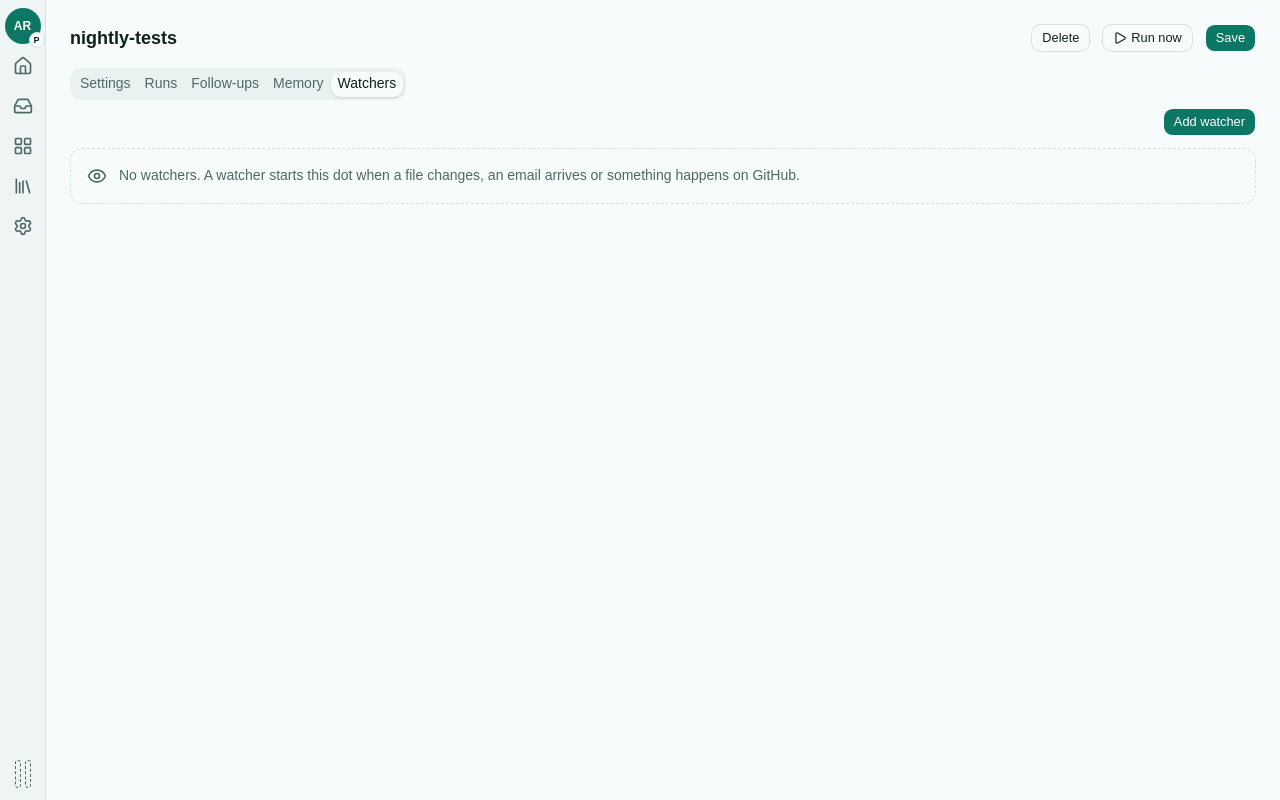
Scenario: a dot's Watchers tab › adds a folder watcher with the folder picker, named after the folder
expect the tab "Watchers" is shown: met, box [330,72,403,96]
Click the button "Add watcher" at (1209, 122), box [1163,108,1256,136]
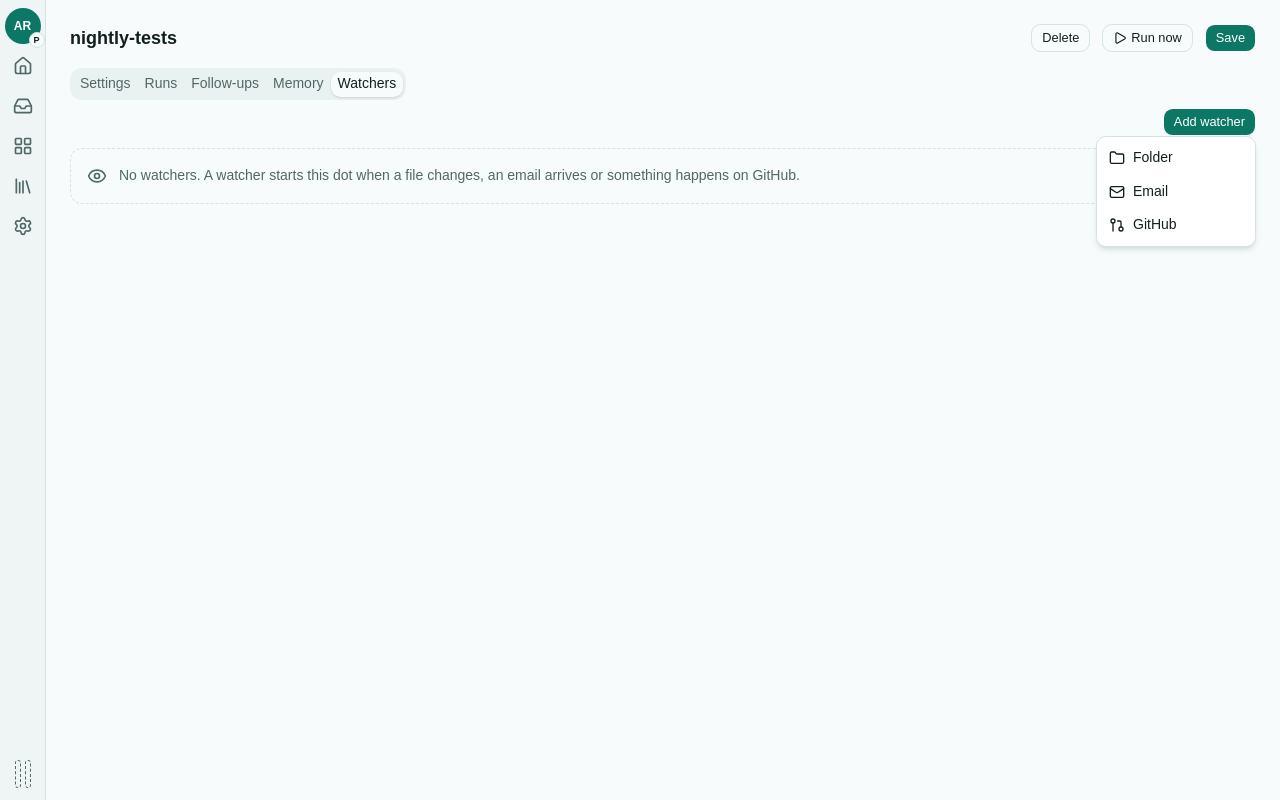
Click the menu item "Folder" at (1141, 157), box [1109,149,1173,166]
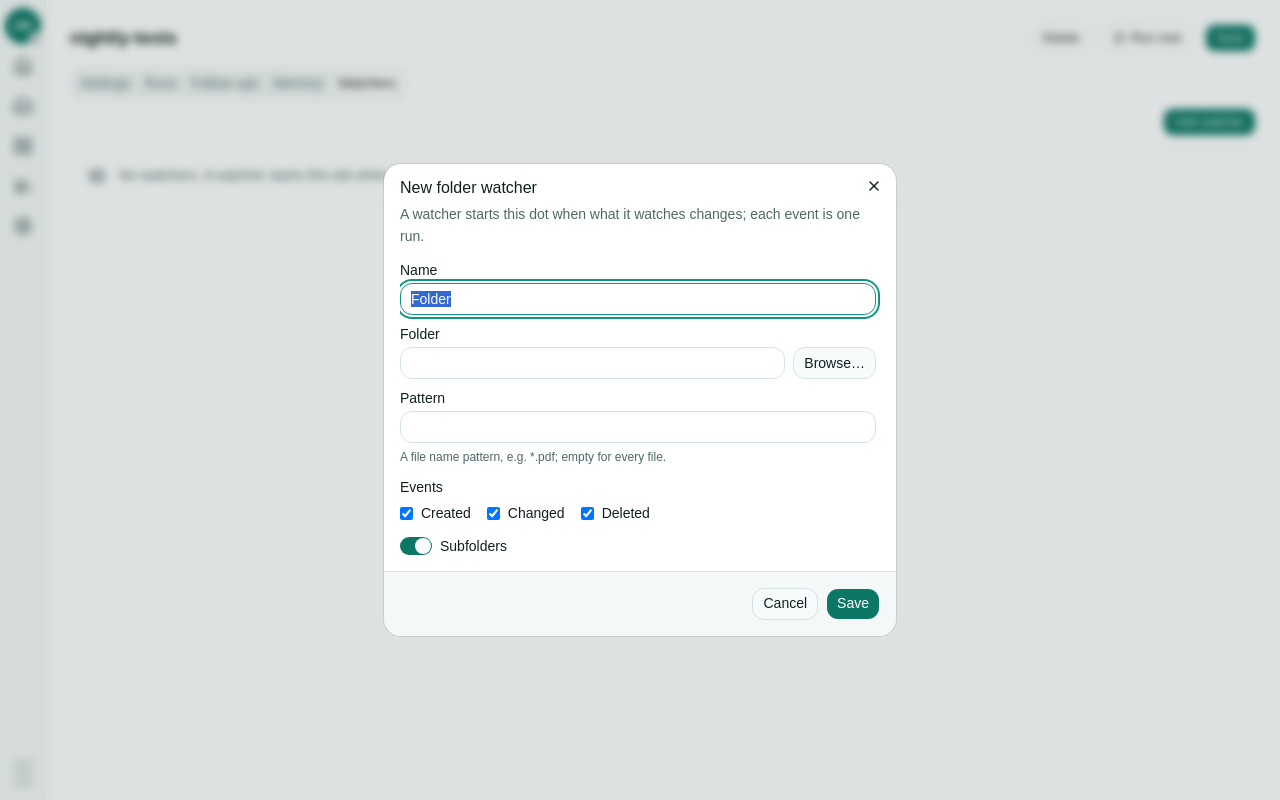
Click the button "Browse…" at (835, 363), box [793,347,876,379]
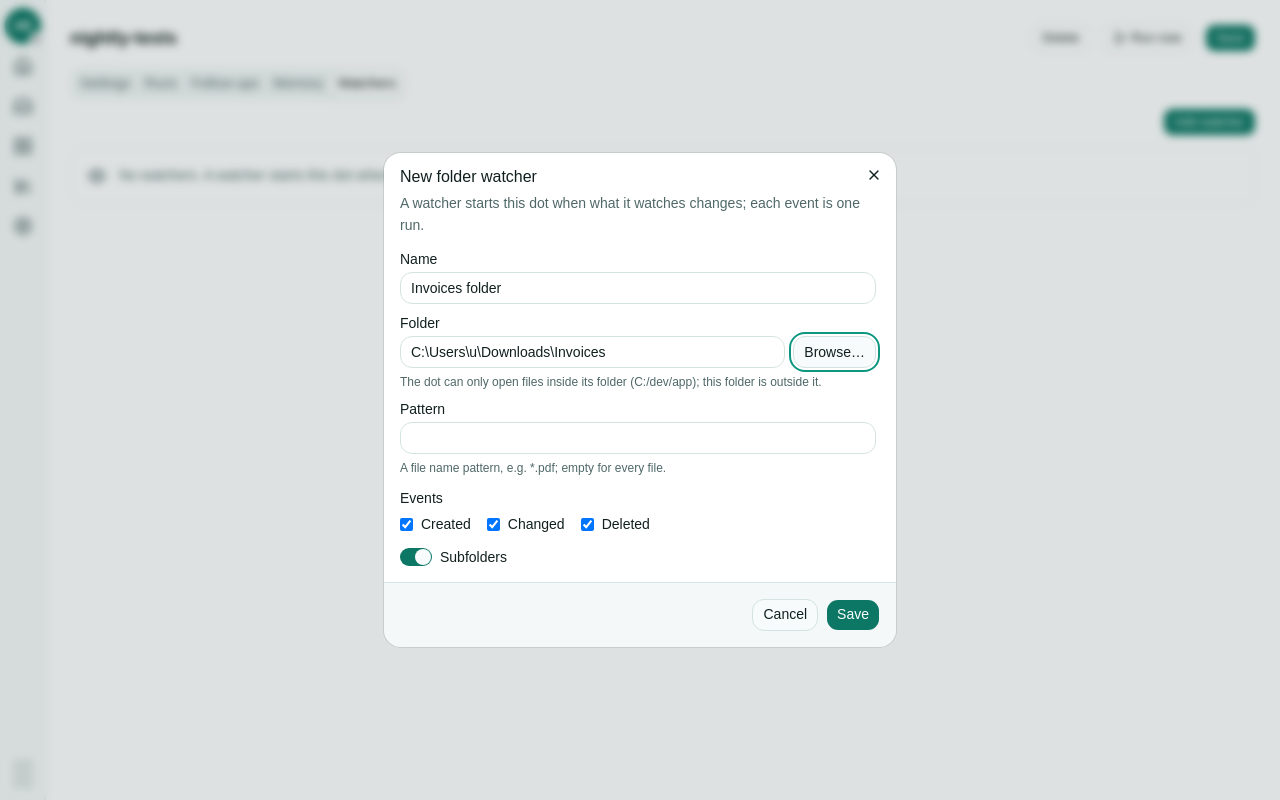
expect the checkbox labelled "Created" is checked: met, box [400,518,413,531]
expect the field labelled "Folder" holds "C:\\Users\\u\\Downloads\\Invoices": met, box [400,336,785,368]
expect the field labelled "Name" holds "Invoices folder": met, box [400,272,876,304]
Type "*.pdf" into the field labelled "Pattern" at (638, 438), box [400,422,876,454]
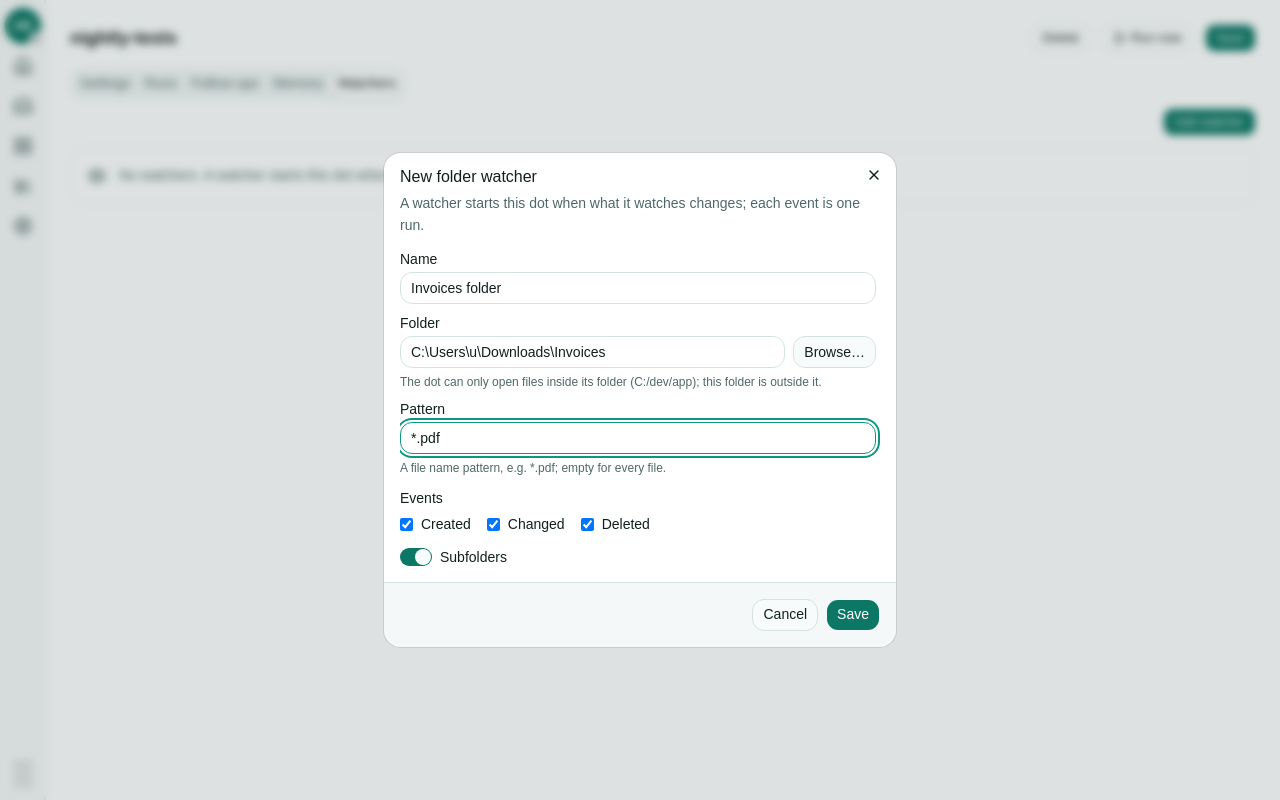
Click the button "Save" at (853, 615), box [826,599,880,631]
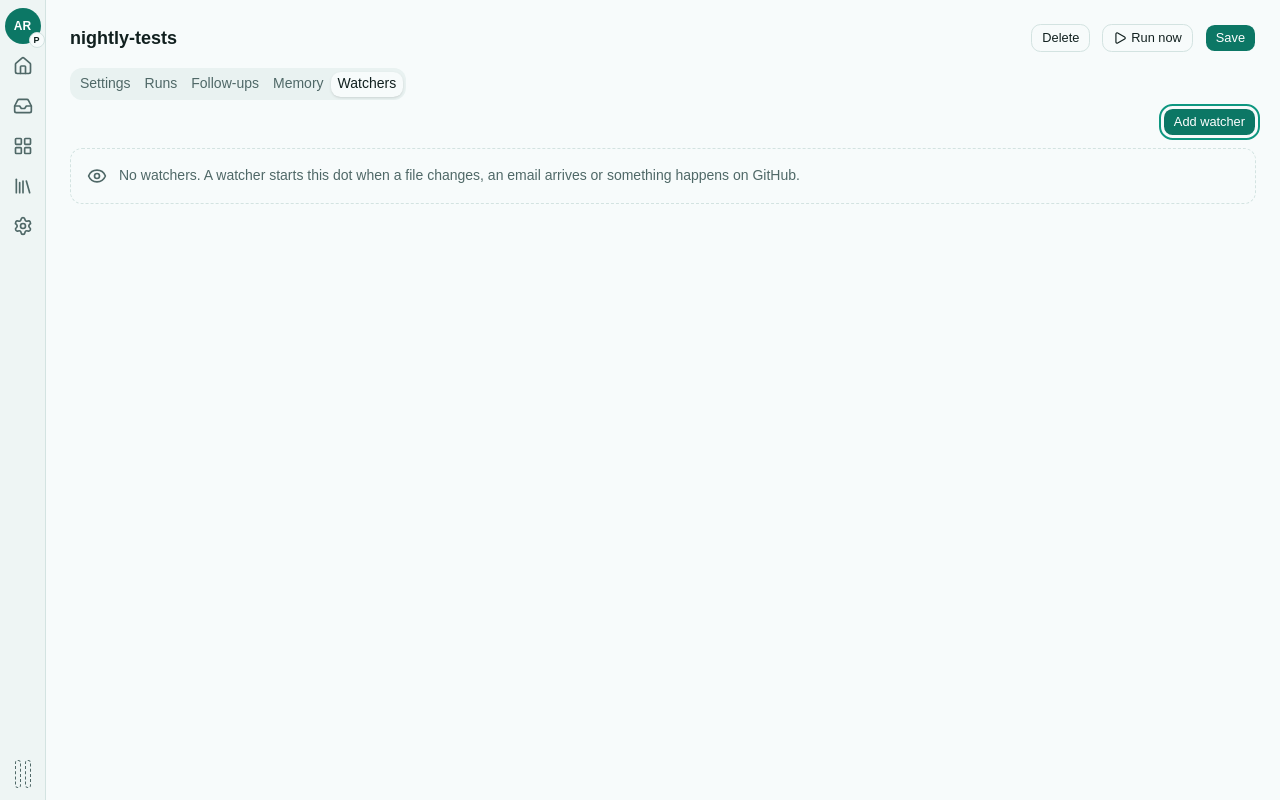
expect the dialog is gone: met
